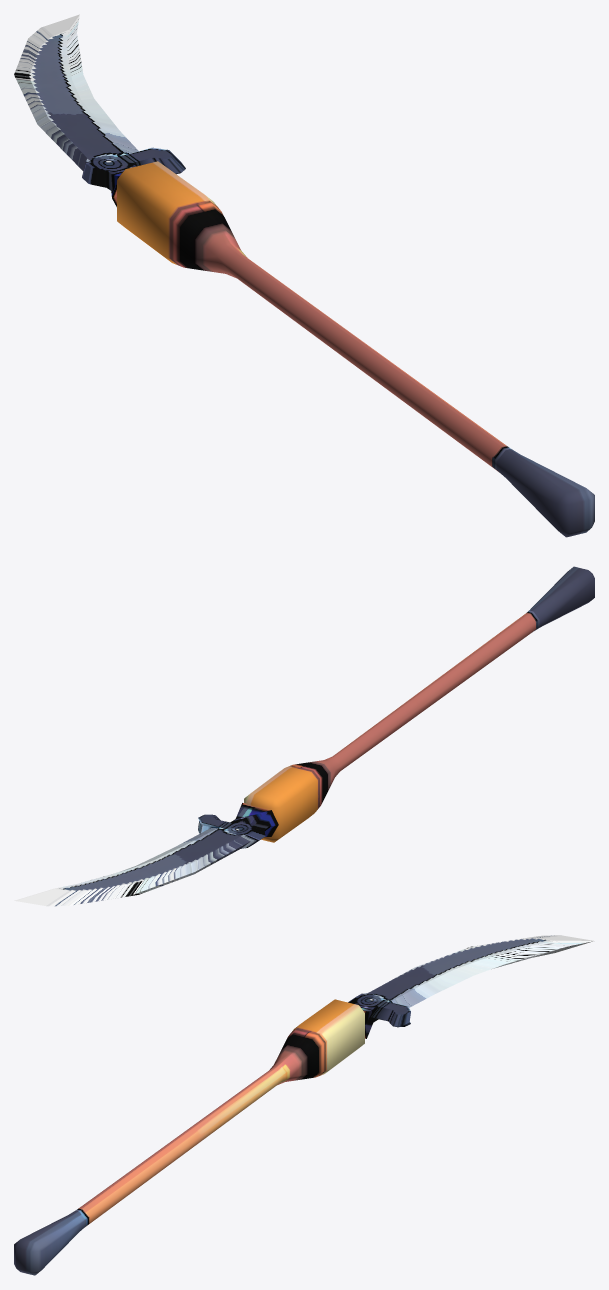
Rendered from polesaw.glb.
The picture shows the model from 3 angles, top to bottom: view 1: azimuth 30°, elevation 25°; view 2: azimuth 150°, elevation 25°; view 3: azimuth 330°, elevation 25°; orthographic projection. The views are drawn at different scales.
Visible parts, largest first — view 1: piclumen-1730233090116, piclumen-1730233090116.001; view 2: piclumen-1730233090116, piclumen-1730233090116.001; view 3: piclumen-1730233090116, piclumen-1730233090116.001.
Boxes of the visible parts, x1=… form: piclumen-1730233090116: x1=117, y1=161, x2=594, y2=537; piclumen-1730233090116.001: x1=14, y1=14, x2=185, y2=206; piclumen-1730233090116: x1=244, y1=566, x2=594, y2=842; piclumen-1730233090116.001: x1=14, y1=803, x2=278, y2=906; piclumen-1730233090116: x1=14, y1=999, x2=364, y2=1275; piclumen-1730233090116.001: x1=348, y1=935, x2=593, y2=1038.
Size of the model in its own units: 0.2385 by 0.082 by 1.58.
Materials: 1 (1 with a texture image).
